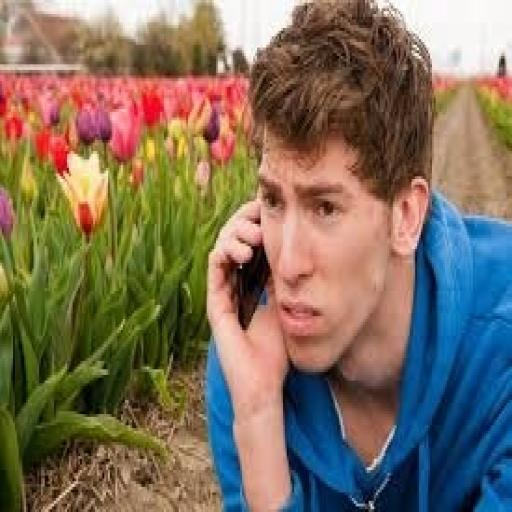calling: (201, 0, 510, 509)
